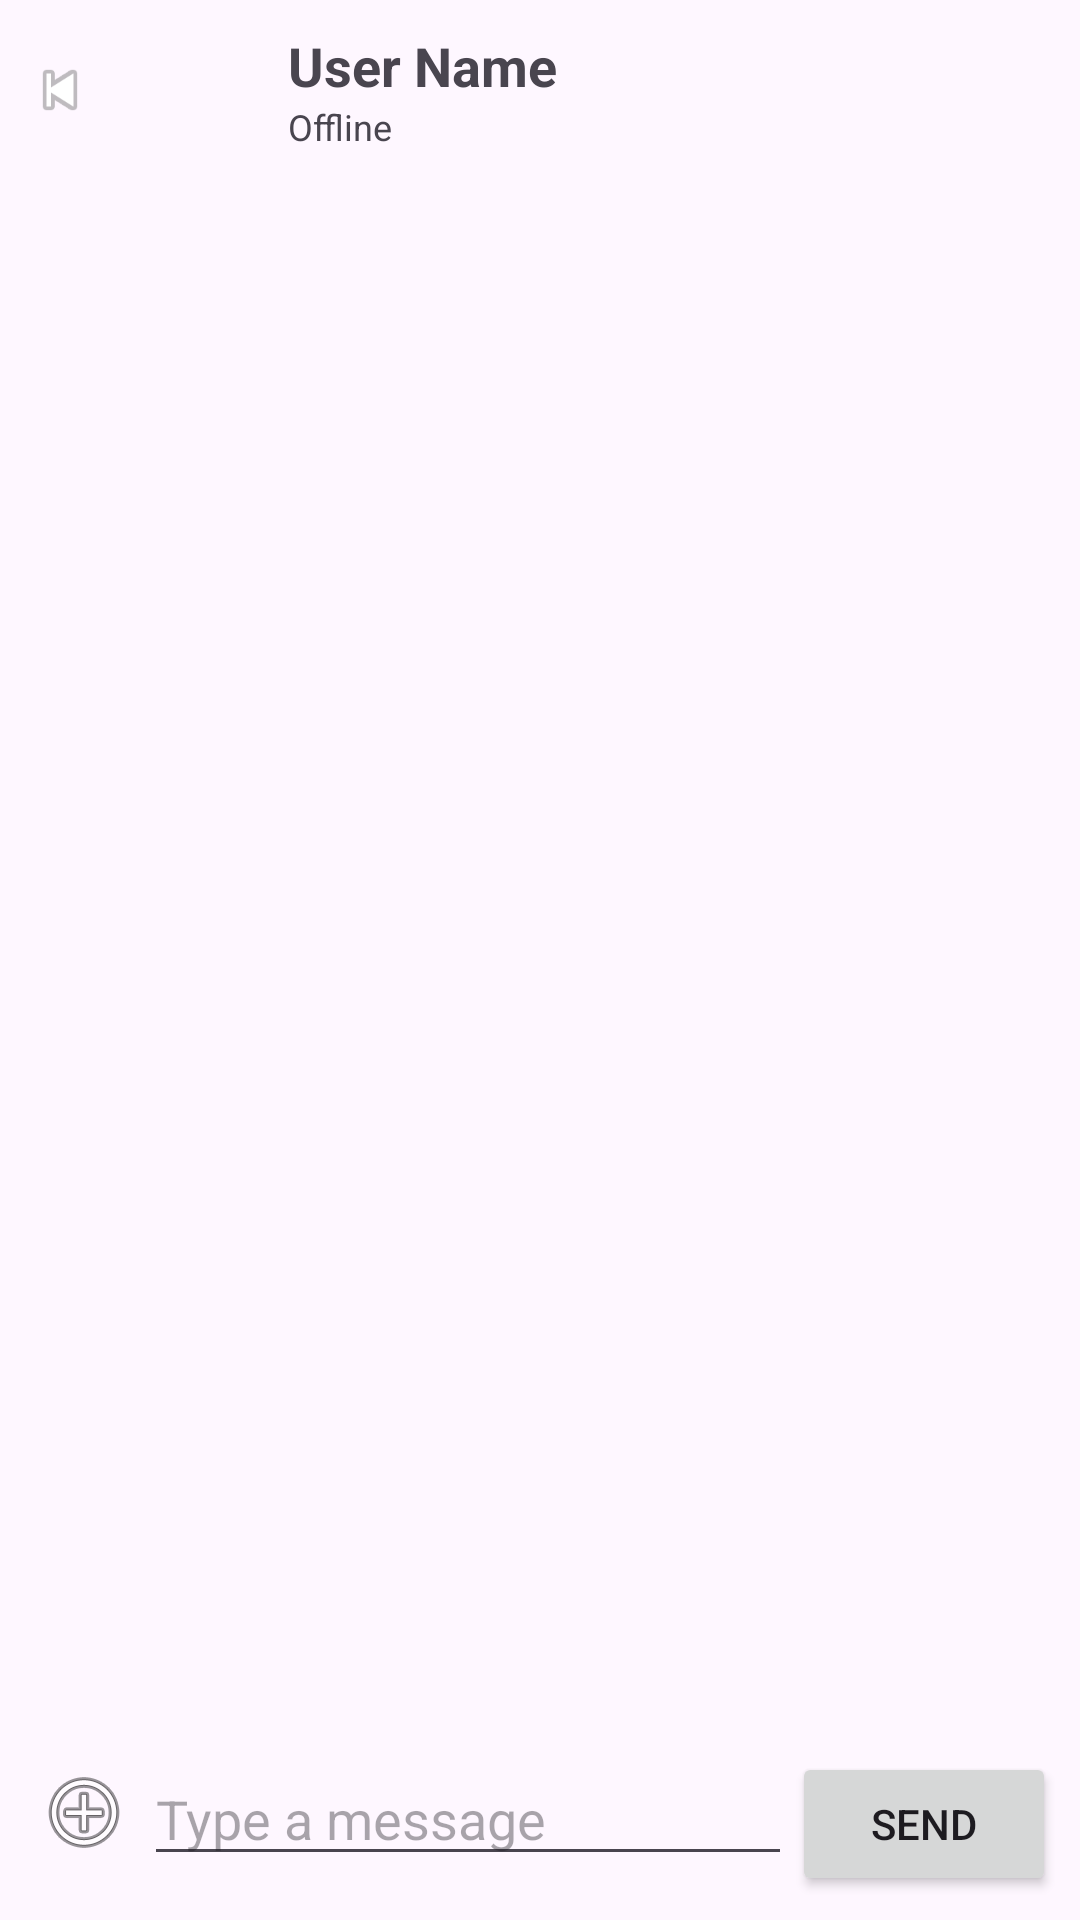

Icon click points for this 1080x1920 phone screenshot, format (x,y):
add: (84,1812)
previous: (60,90)
